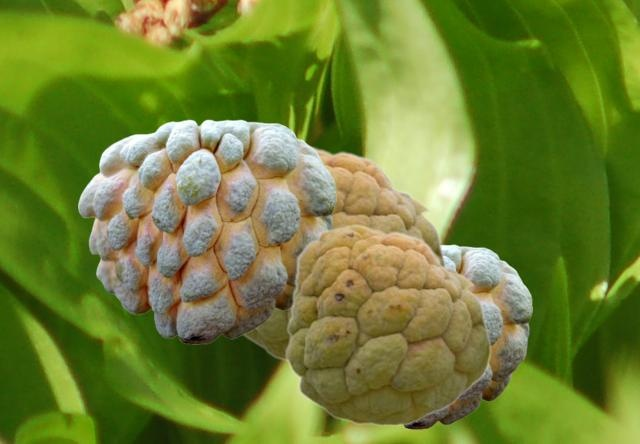atis: (78, 119, 335, 343), (242, 142, 448, 362), (284, 223, 490, 425), (403, 244, 531, 428)
